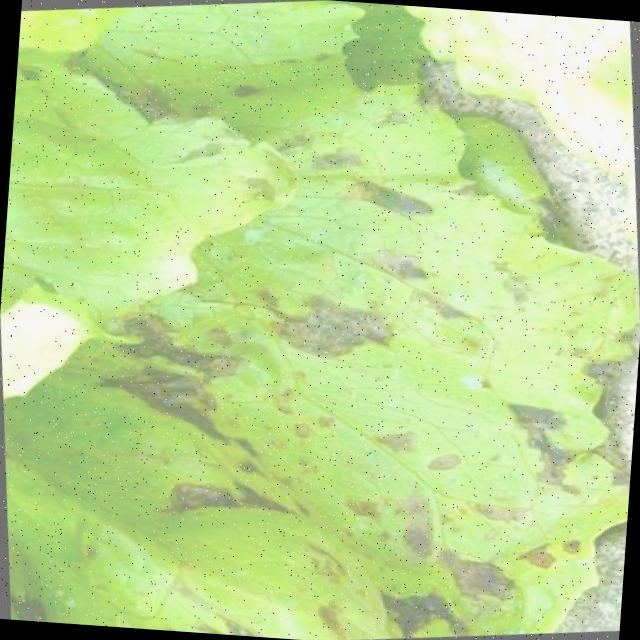Bacterial: (64, 232, 509, 562)
